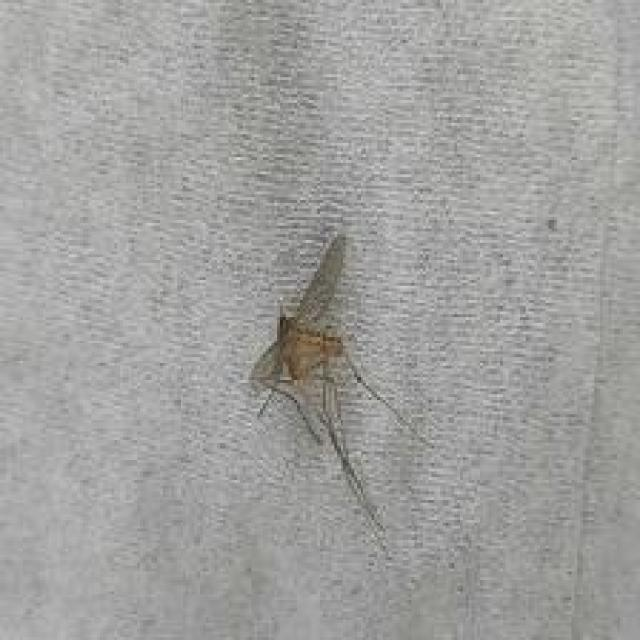Culex: (246, 230, 428, 561)
